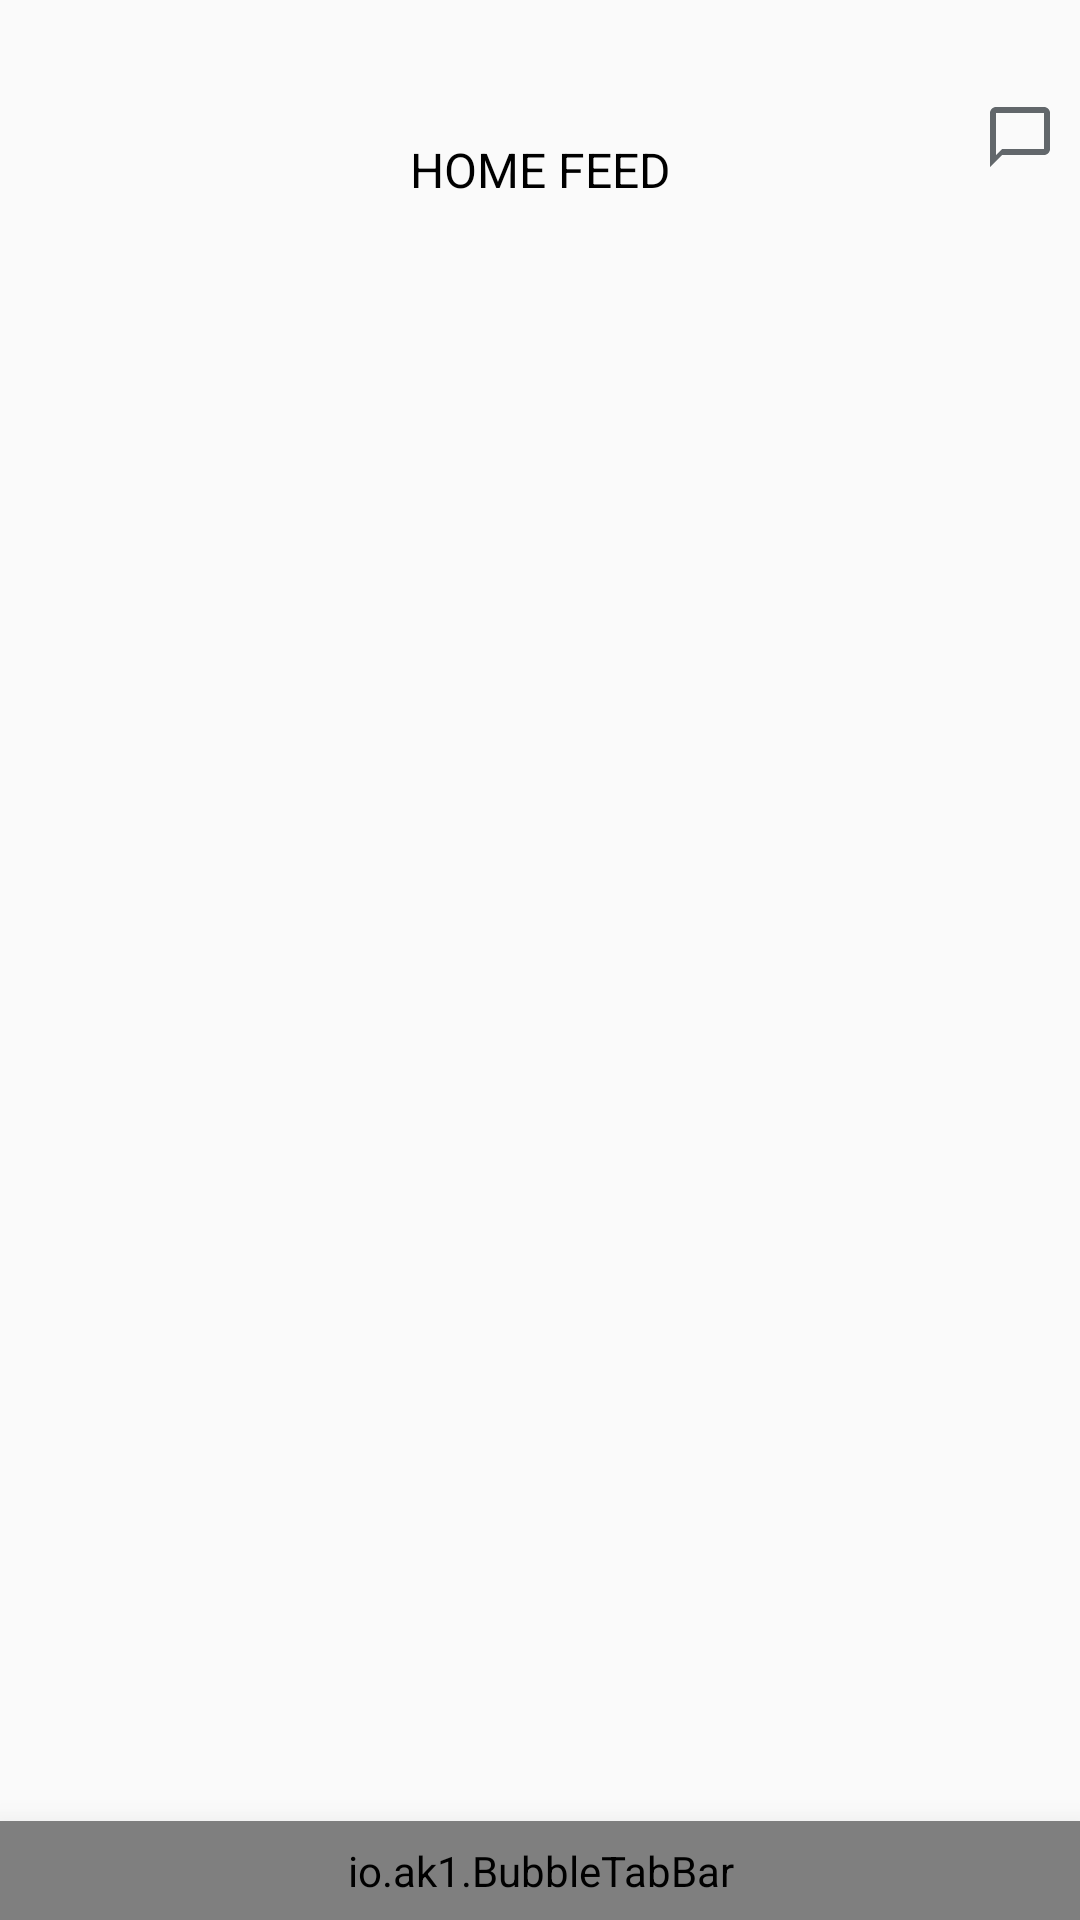

Icon click points for this 1080x1920 phone screenshot, format (x=x, y=y):
chat bubble: (x=1020, y=137)
